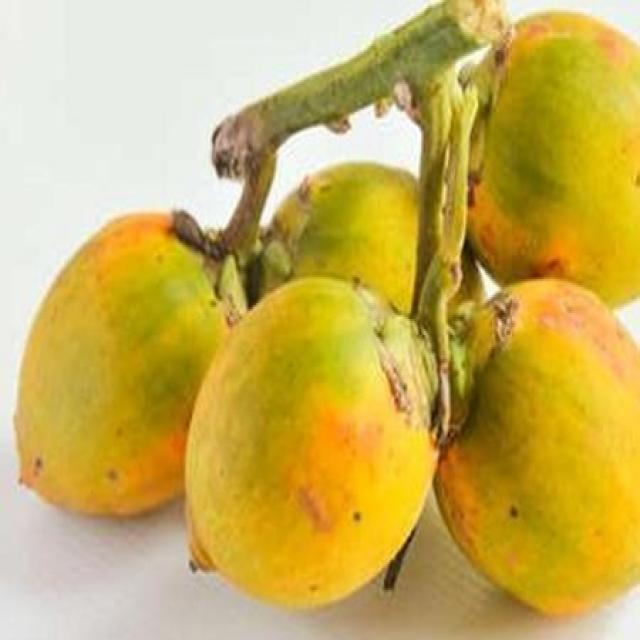good: (183, 277, 441, 612), (434, 279, 639, 620), (11, 211, 232, 520), (466, 12, 639, 315), (238, 163, 420, 311)
